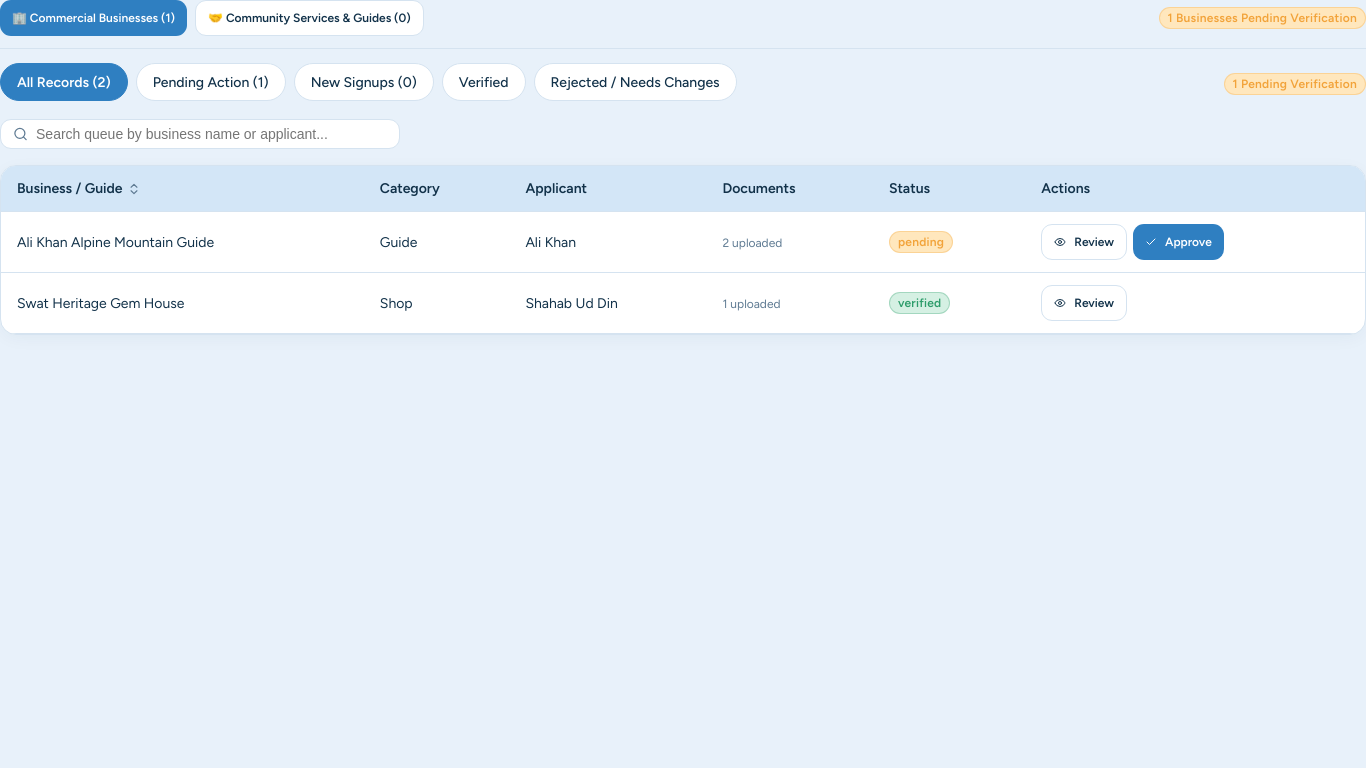
Scenario: Step 3: Authority Verification & Visibility Gate › allows authority to ask for changes with a feedback note
This screenshot has width=1366, height=768.
# Click Review
Click the button with test id "btn-inspect-b-ali-khan": (1084, 242) [1041, 224, 1127, 260]
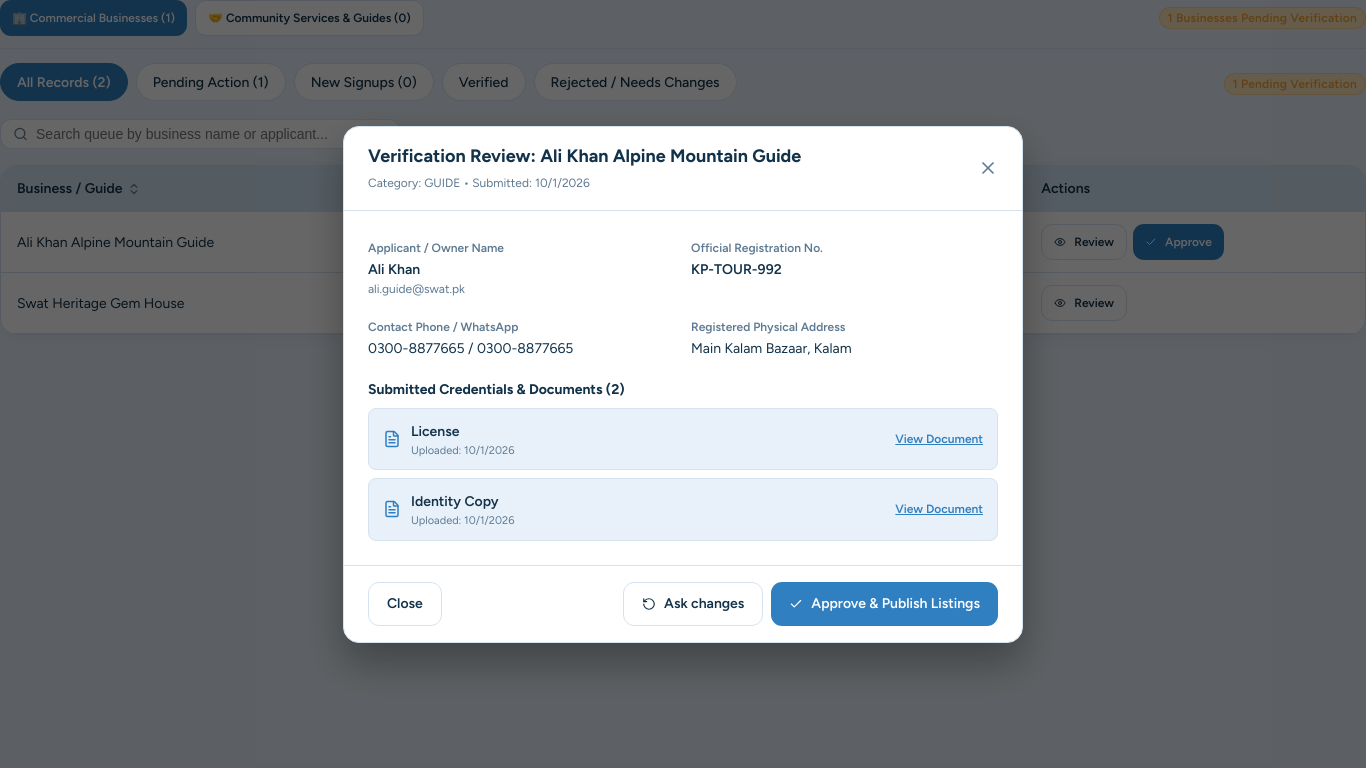
# Click "Ask changes"
Click the button with test id "btn-modal-ask-changes": (693, 604) [623, 582, 763, 626]
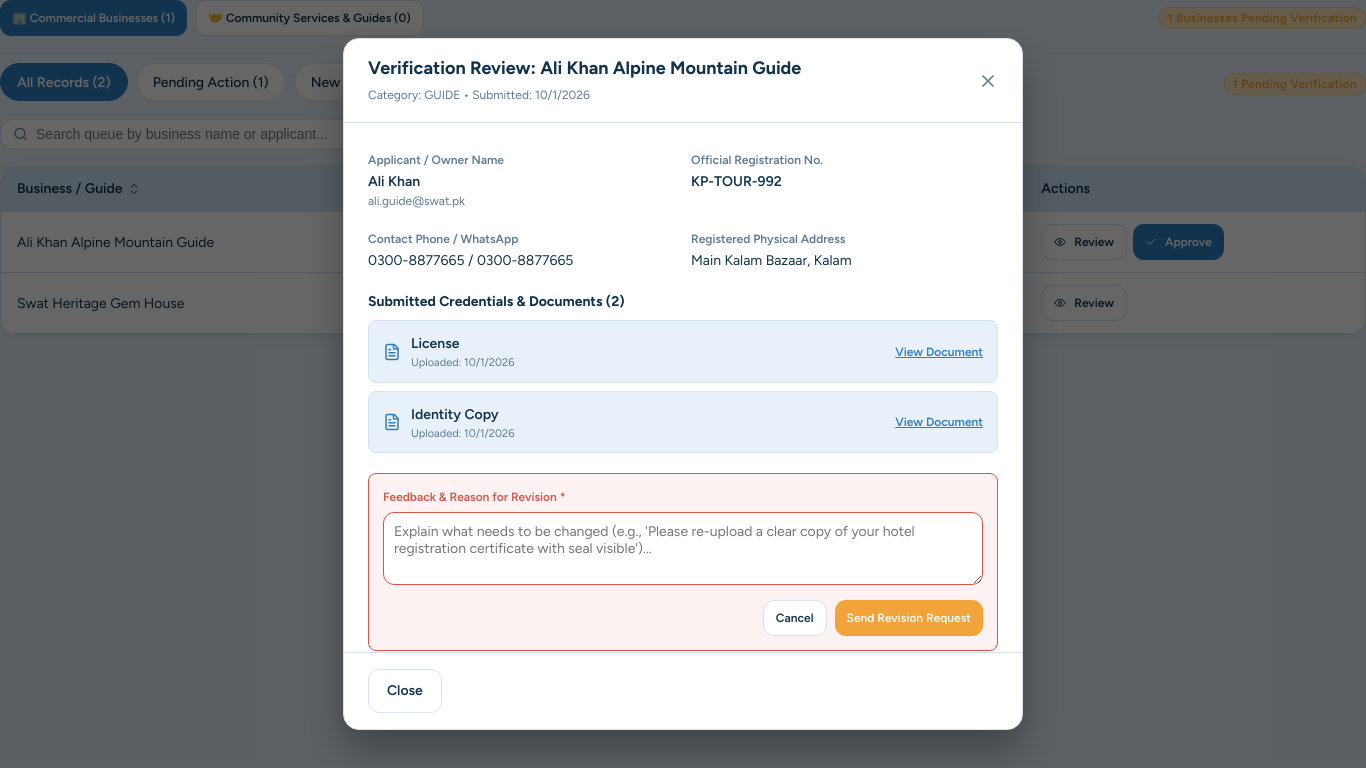
# Note input is displayed
Replace the text in the text box with test id "input-rejection-note" with "License copy is expired. Please upload valid KP license.": (683, 549) [383, 512, 983, 585]
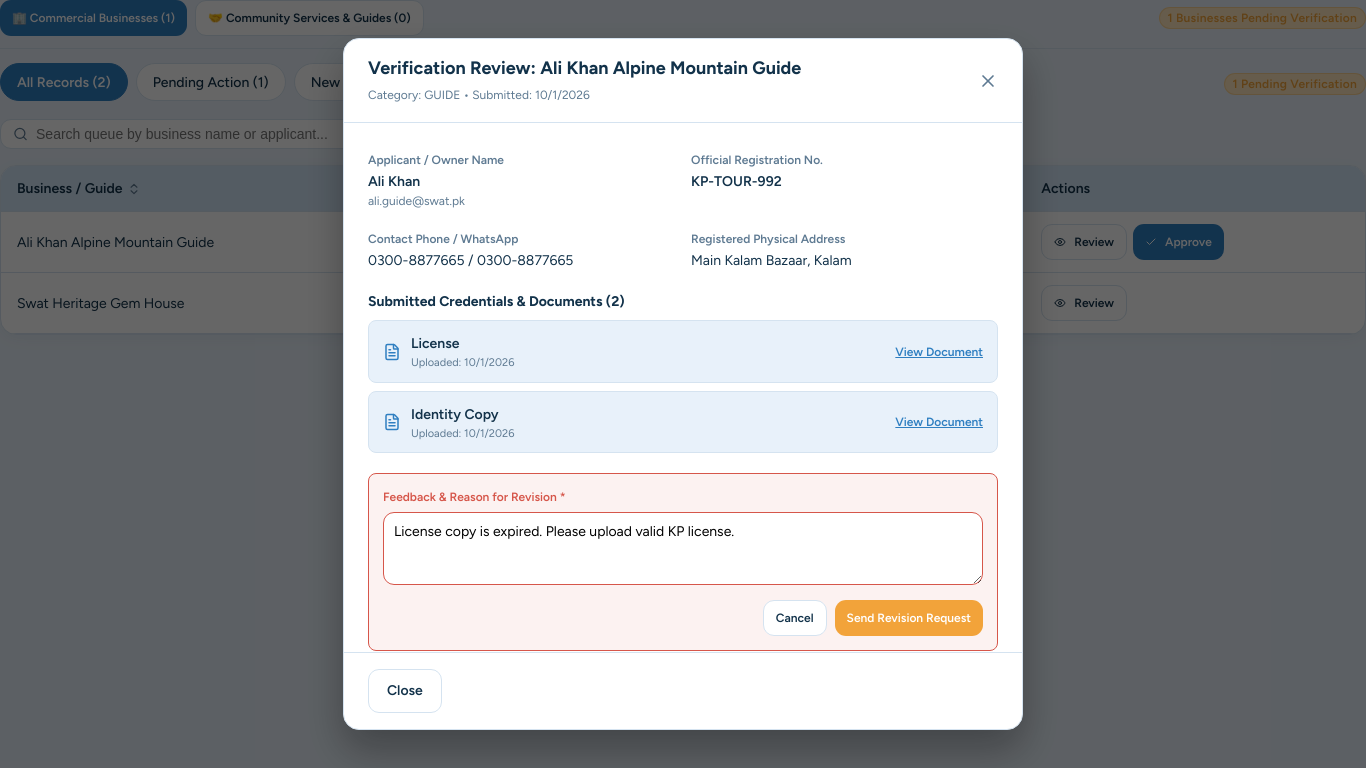
# Confirm sending revision request
Click the button with test id "btn-confirm-rejection": (909, 618) [835, 600, 983, 636]
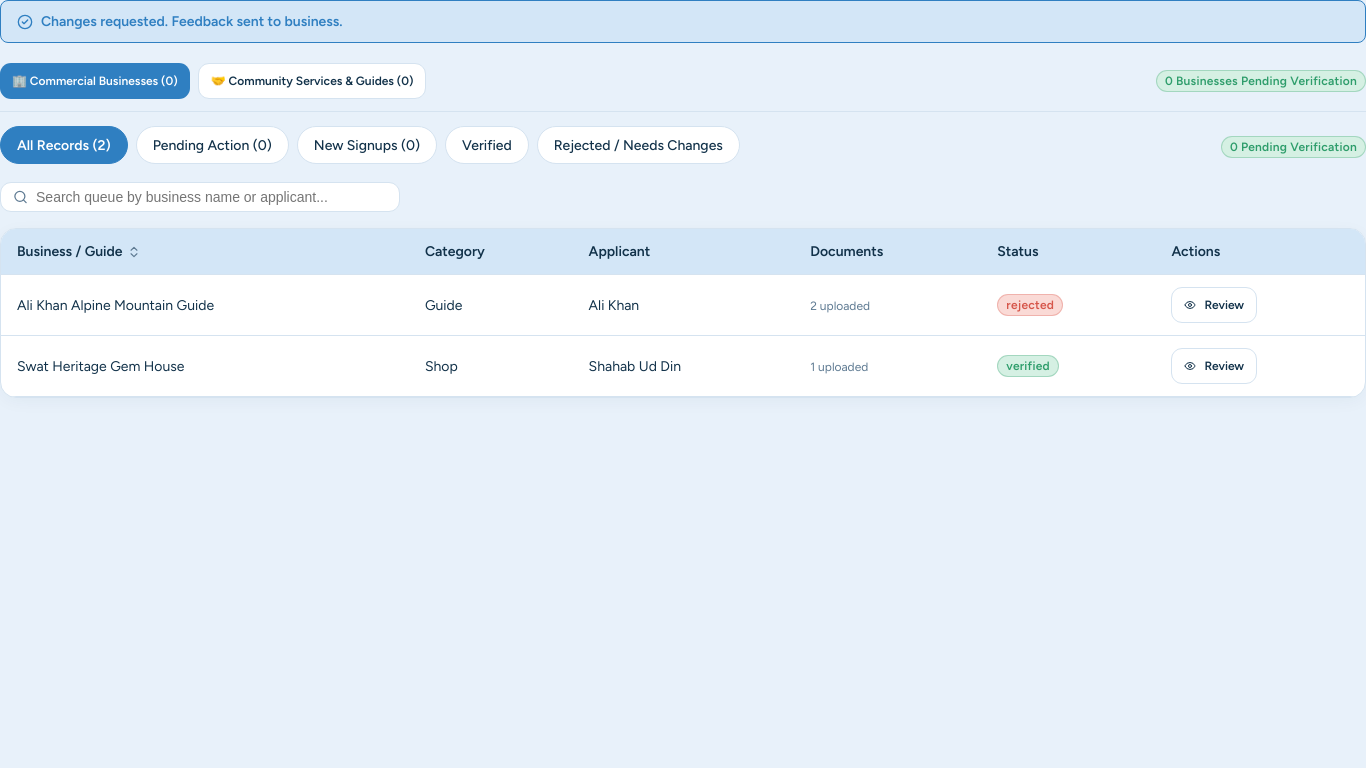
expect the text "Changes requested. Feedback sent to business." is shown: met, box [0, 0, 1365, 43]
